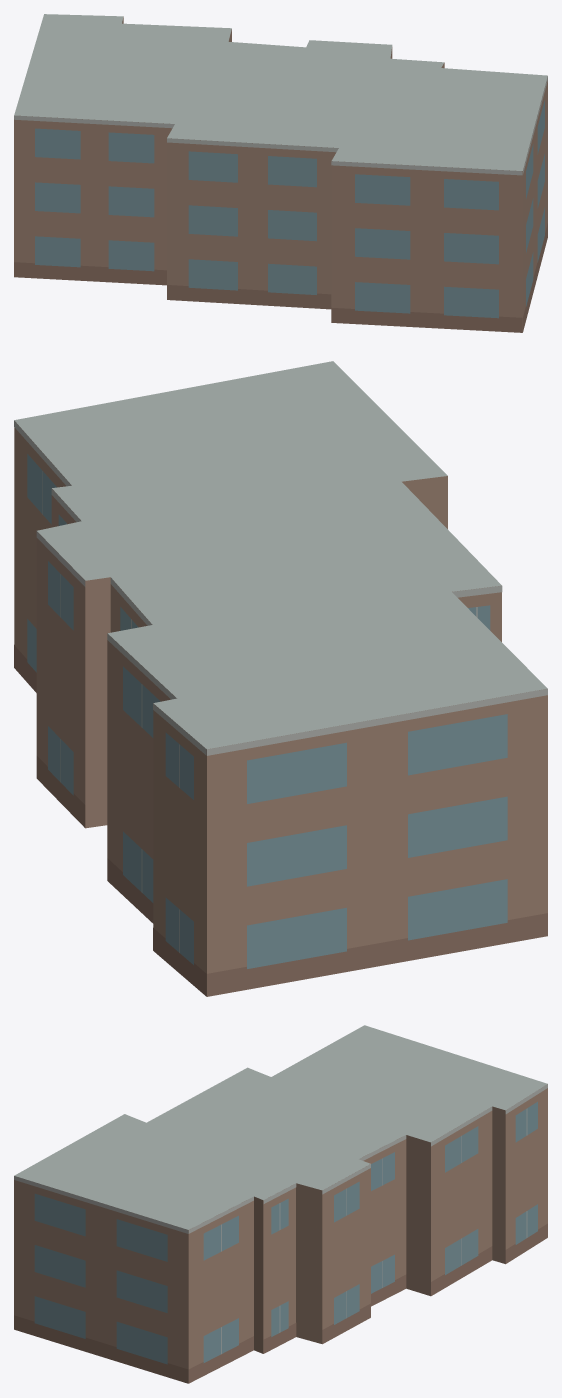
The model's file is survey-upis-32693238.glb.
3 views of the same model, one above another, from view 1: azimuth 30°, elevation 25°; view 2: azimuth 150°, elevation 25°; view 3: azimuth 270°, elevation 25° (orthographic). The views are drawn at different scales.
Parts seen in each view (by area): view 1: survey-upis-32693238.tmp; view 2: survey-upis-32693238.tmp; view 3: survey-upis-32693238.tmp.
Boxes of the visible parts, x1,y1,x2,y2 form: survey-upis-32693238.tmp: [14, 14, 547, 332]; survey-upis-32693238.tmp: [14, 361, 547, 996]; survey-upis-32693238.tmp: [14, 1025, 547, 1383].
Bounding box in the file's own units: 26.13 × 9.15 × 28.79.
